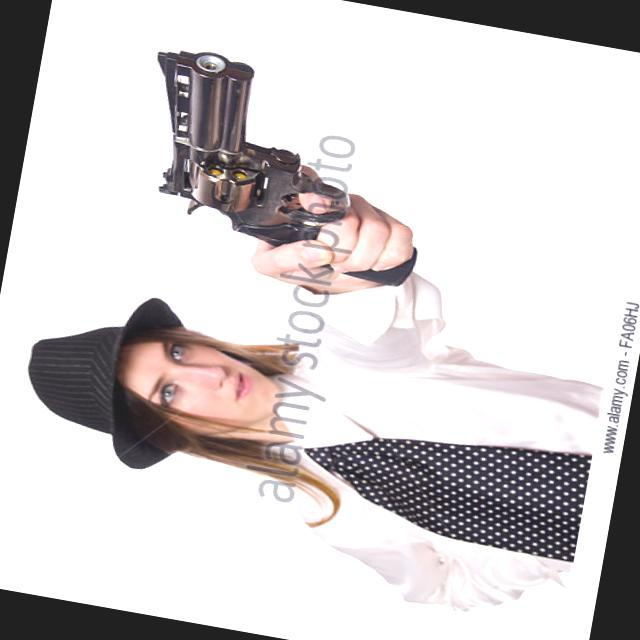handgun: (121, 42, 443, 291)
